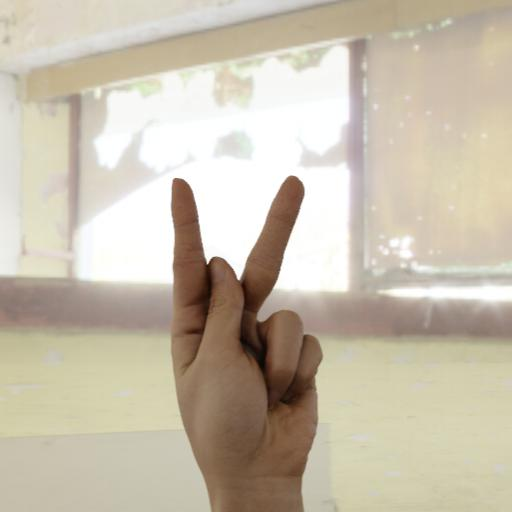K: (166, 173, 330, 481)
